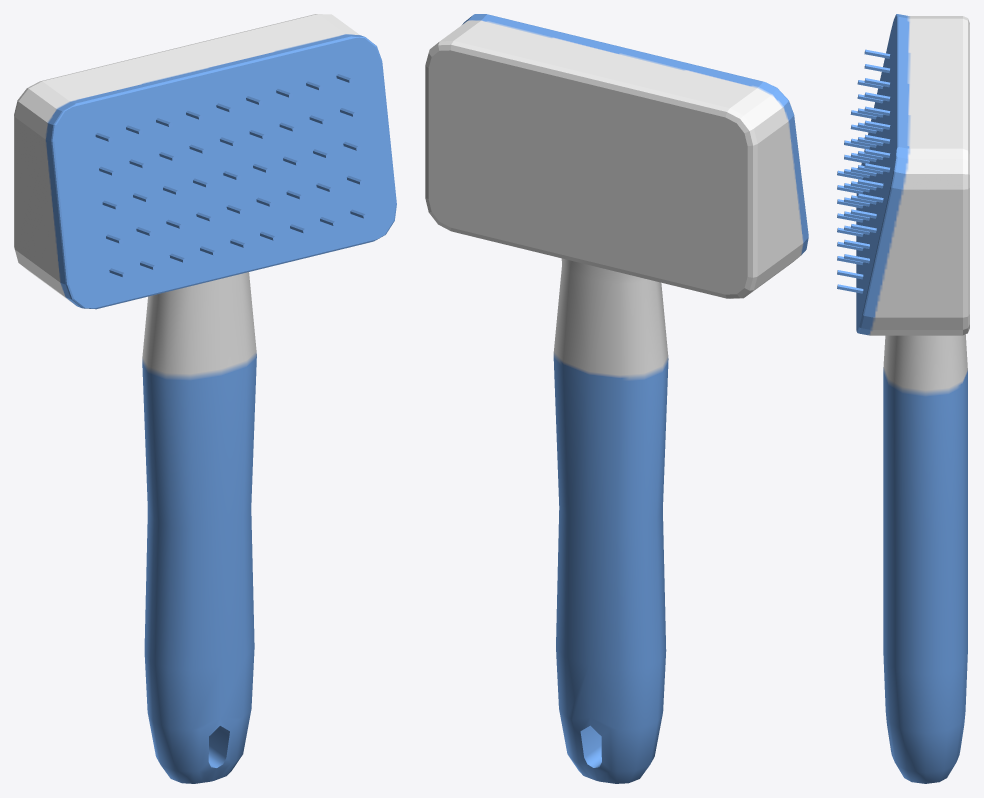
The model's file is team comb.fbx.
3 renders of one model, left to right at view 1: azimuth 30°, elevation 25°; view 2: azimuth 150°, elevation 25°; view 3: azimuth 270°, elevation 25°, orthographic. The views are drawn at different scales.
Visible parts, largest first — view 1: comb; view 2: comb; view 3: comb.
Boxes of the visible parts, x1,y1,x2,y2 form: comb: (14,14,396,783); comb: (425,14,808,783); comb: (837,14,969,783).
Size of the model in its own units: 89.23 by 183 by 32.1.
1 material, 1 textured.
